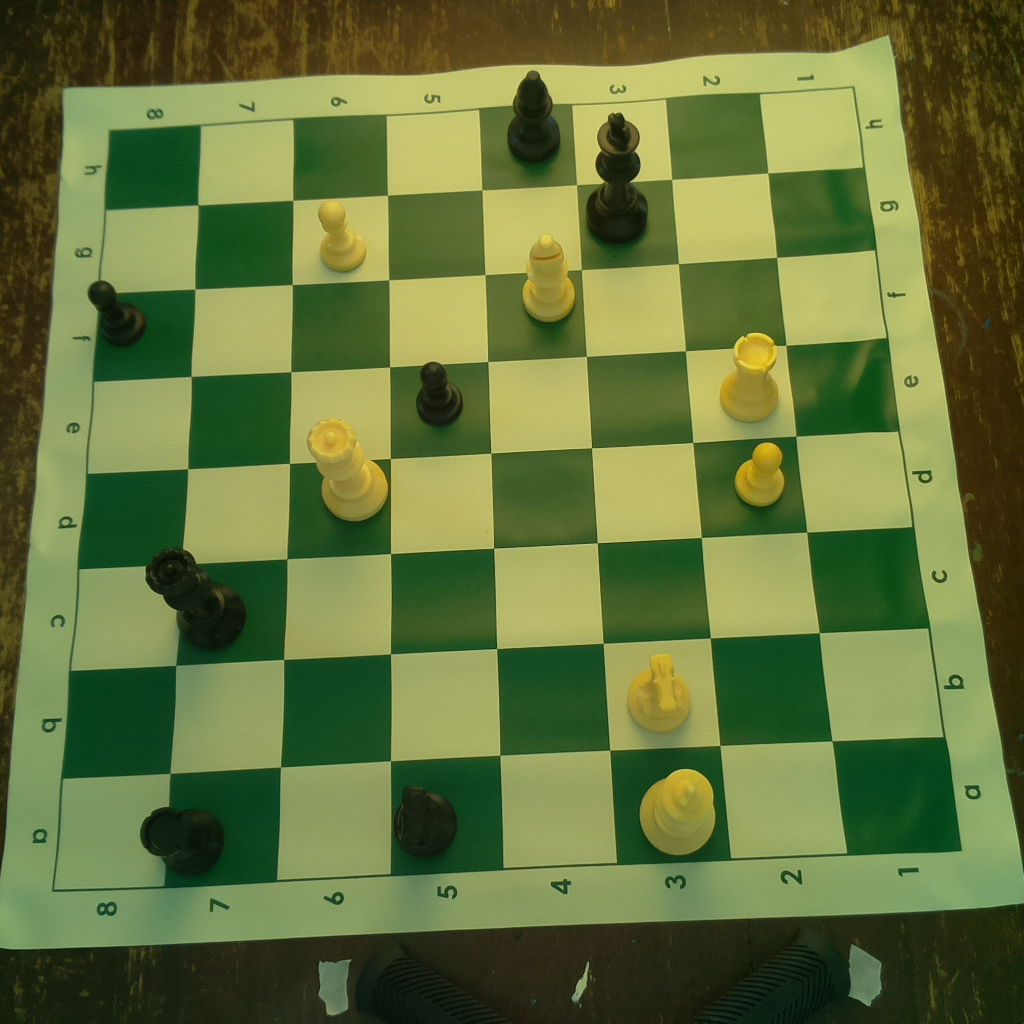black_bishop: (501, 67, 564, 165)
black_king: (585, 109, 651, 245)
black_knight: (385, 774, 466, 860)
black_pawn: (86, 279, 150, 345), (412, 358, 467, 431)
black_queen: (146, 544, 253, 656)
black_rook: (136, 801, 228, 878)
file_a: (50, 738, 963, 893)
file_b: (63, 626, 942, 780)
file_c: (71, 527, 928, 671)
file_d: (77, 431, 914, 569)
file_e: (88, 340, 902, 473)
file_f: (92, 249, 888, 382)
file_g: (98, 166, 875, 292)
file_h: (103, 91, 866, 210)
outline: (50, 86, 960, 893)
rank_1: (760, 88, 960, 856)
rank_2: (667, 93, 849, 857)
rank_3: (572, 99, 733, 865)
rank_4: (481, 102, 619, 867)
rank_5: (388, 110, 505, 875)
rank_6: (273, 118, 394, 882)
rank_7: (166, 119, 296, 888)
rank_8: (53, 125, 202, 893)
white_bishop: (514, 231, 580, 328)
white_king: (633, 762, 724, 861)
white_knight: (623, 647, 696, 736)
white_pawn: (312, 195, 368, 277), (734, 436, 790, 510)
white_queen: (306, 414, 393, 523)
white_rook: (718, 328, 780, 421)
